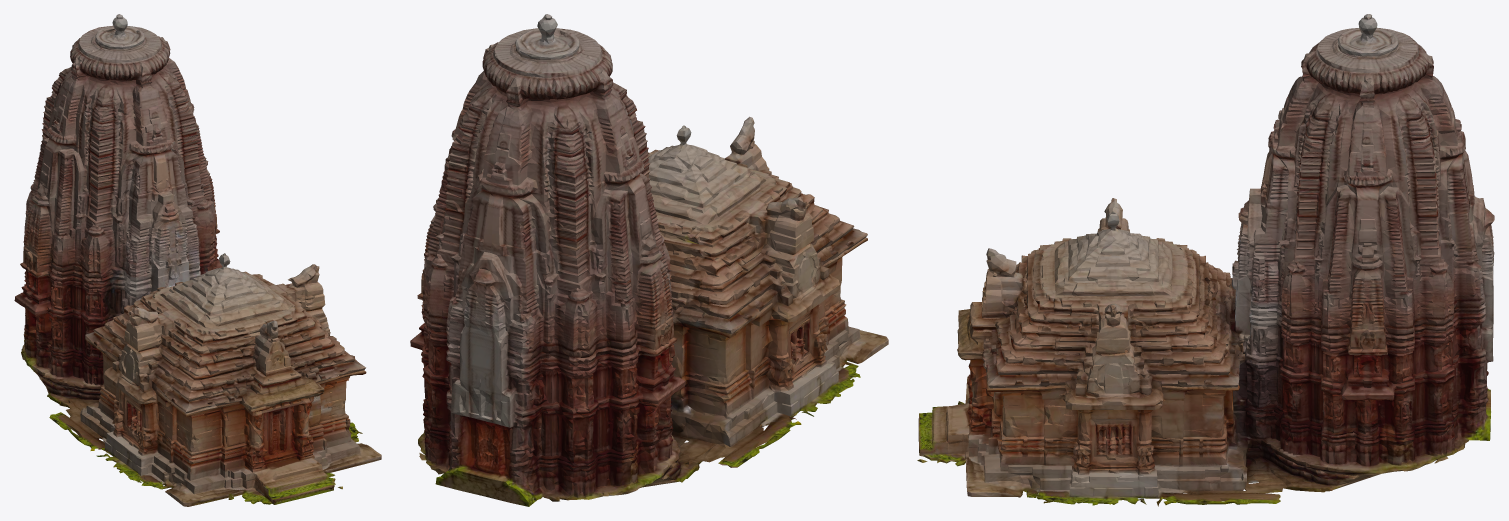
Rendered from rajar2.glb.
3 renders of one model, left to right at view 1: azimuth 30°, elevation 25°; view 2: azimuth 150°, elevation 25°; view 3: azimuth 270°, elevation 25°, orthographic. The views are drawn at different scales.
Visible parts, largest first — view 1: tripo_node_bed8daf4-6674-462d-bcec-1e4adb3e9955; view 2: tripo_node_bed8daf4-6674-462d-bcec-1e4adb3e9955; view 3: tripo_node_bed8daf4-6674-462d-bcec-1e4adb3e9955.
Part boxes in pixels (<box>): tripo_node_bed8daf4-6674-462d-bcec-1e4adb3e9955: <box>14,14,381,506</box>; tripo_node_bed8daf4-6674-462d-bcec-1e4adb3e9955: <box>410,14,888,506</box>; tripo_node_bed8daf4-6674-462d-bcec-1e4adb3e9955: <box>917,14,1494,506</box>.
Size of the model in its own units: 0.5477 by 0.807 by 0.9895.
1 material, 1 textured.
